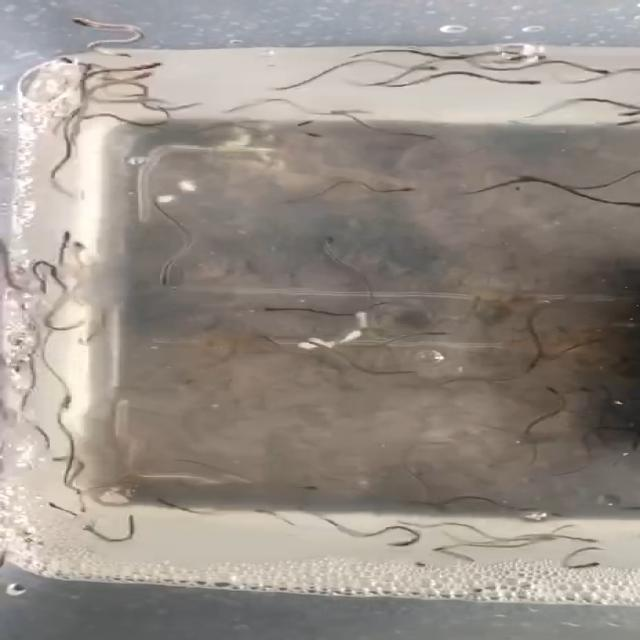inactive_glass_eel: (516, 171, 556, 184), (388, 182, 418, 198), (579, 64, 613, 78), (58, 17, 101, 28), (70, 61, 96, 78), (156, 271, 182, 288), (316, 234, 340, 252), (256, 304, 292, 316), (54, 54, 86, 66), (501, 47, 539, 57), (58, 228, 75, 250), (292, 483, 326, 494), (609, 117, 640, 129), (422, 326, 452, 338), (59, 394, 80, 410), (389, 538, 422, 548), (410, 60, 437, 72), (508, 77, 544, 86), (72, 236, 92, 252), (545, 385, 566, 400), (291, 117, 319, 128), (301, 130, 330, 140), (616, 107, 640, 119), (136, 61, 162, 71), (52, 454, 77, 464), (45, 502, 70, 512), (33, 280, 47, 296), (623, 198, 640, 210), (131, 72, 151, 80), (581, 561, 602, 567)
